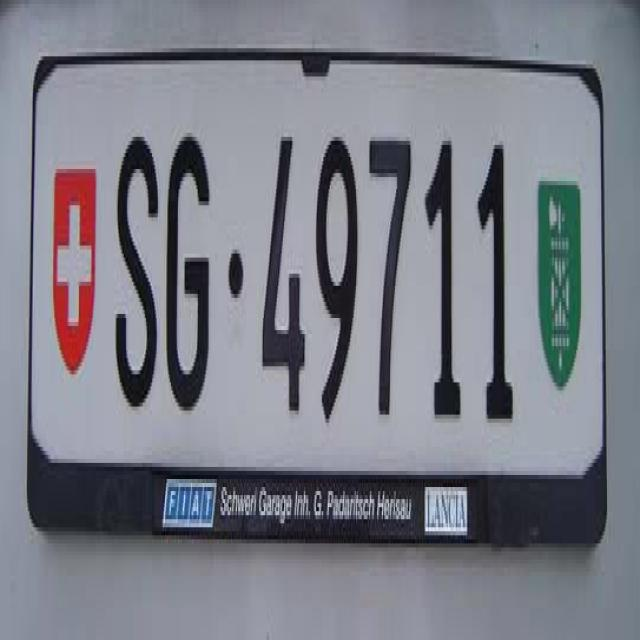Autre: (32, 73, 616, 541)
